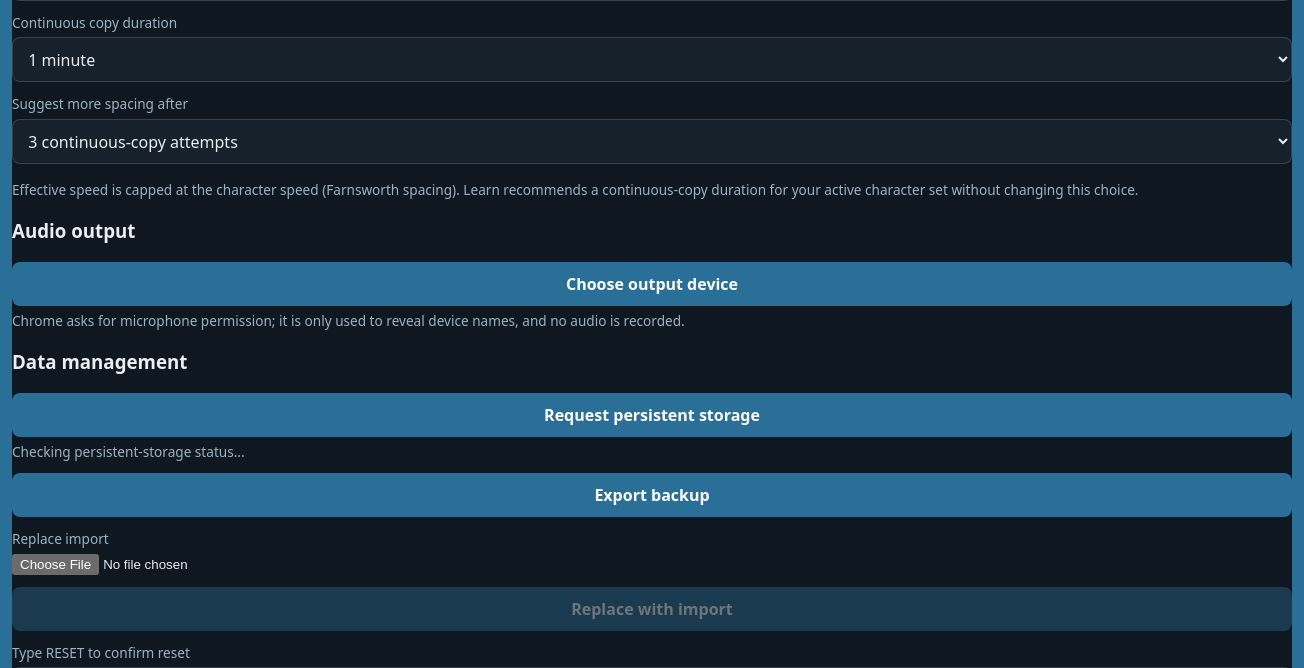
Test: SettingsScreen continuous copy › shows an error message when persistence request throws
(page scrolled)
Step 1. Click the button "Request persistent storage" → (652, 415), box left=12, top=393, right=1292, bottom=437
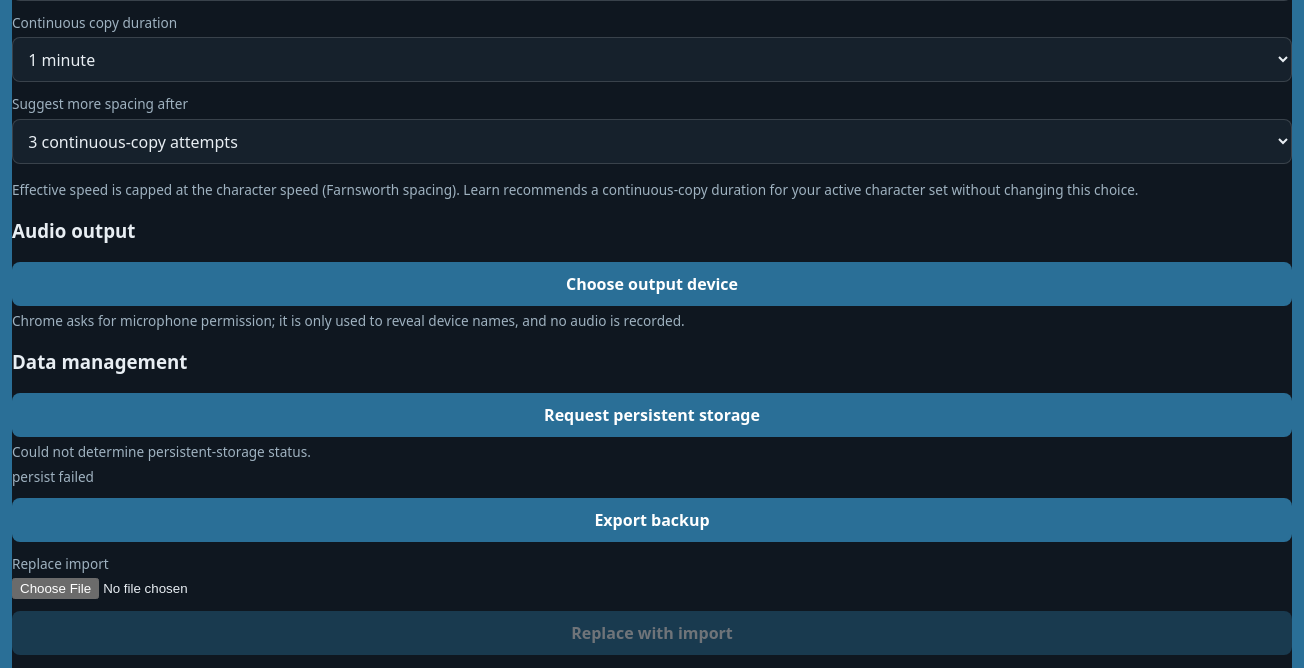
Result: the text "Could not determine persistent-storage status." is shown at left=12, top=442, right=311, bottom=461
Result: the message "persist failed" is shown at left=12, top=467, right=94, bottom=486
